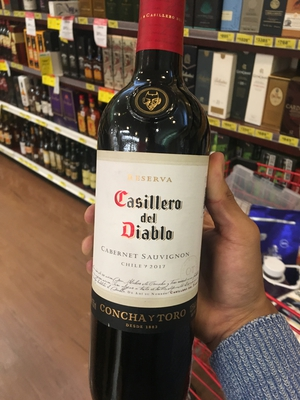casillero del diablo cabernet sauvignon: (89, 17, 207, 400)
